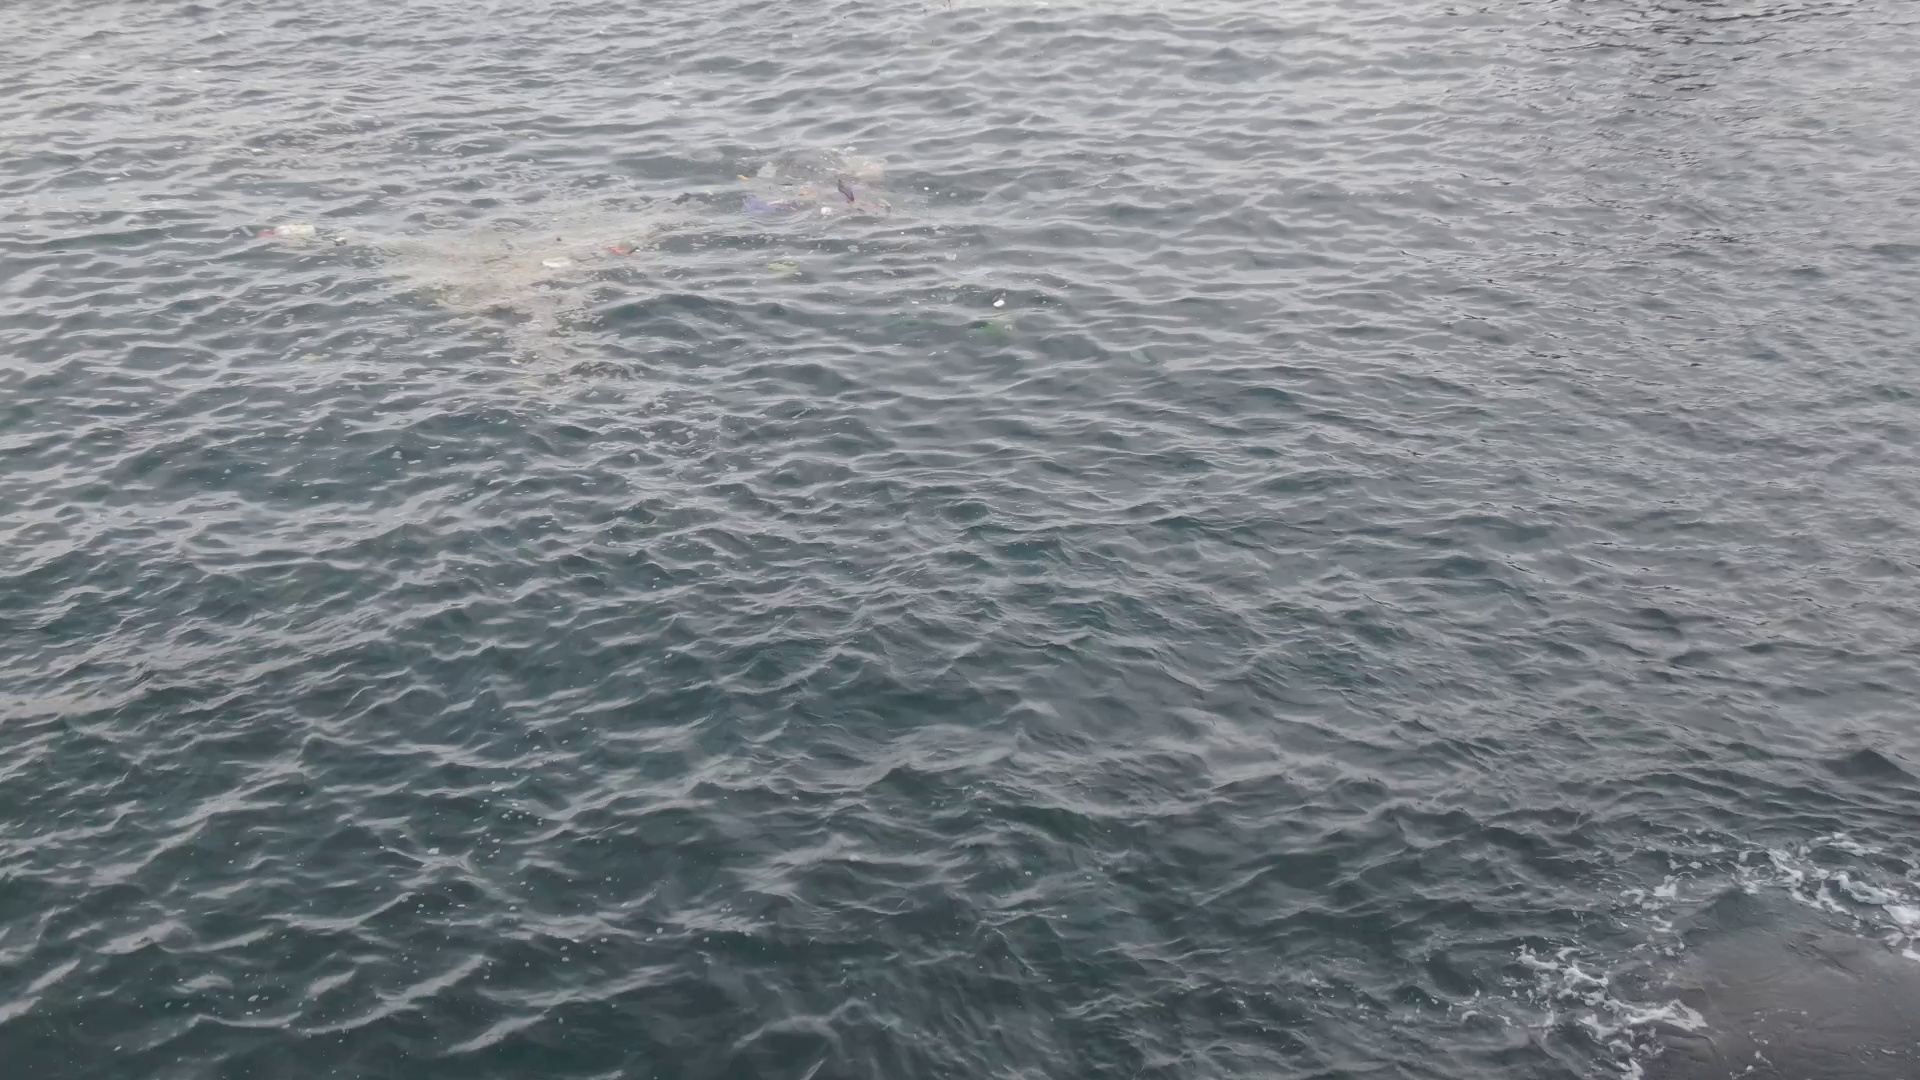garbage: (738, 167, 887, 222), (257, 225, 315, 239), (764, 258, 800, 274), (605, 241, 638, 257), (543, 255, 571, 270), (993, 290, 1007, 307)
